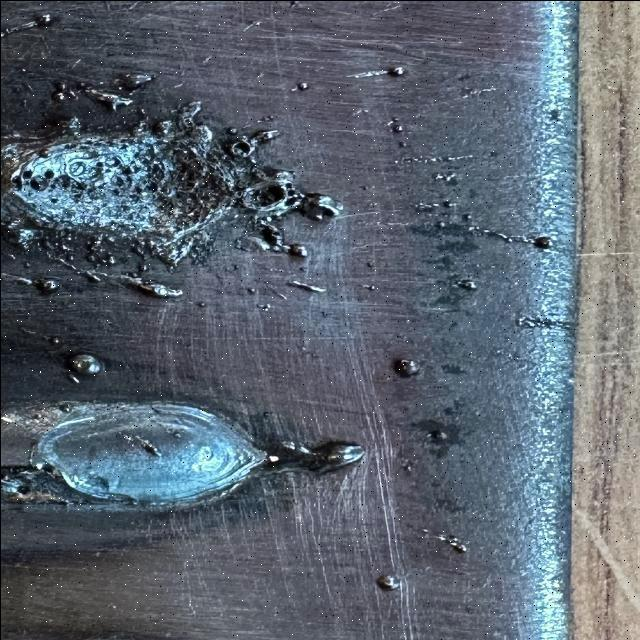Porosity: (130, 159, 138, 167)
Spatters: (120, 432, 129, 438), (298, 344, 304, 350), (266, 114, 272, 119)
